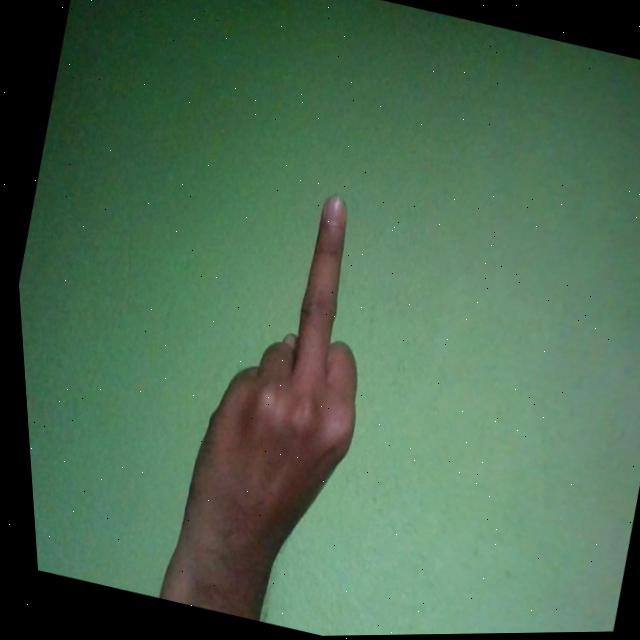Middle Finger: (136, 171, 414, 621)
